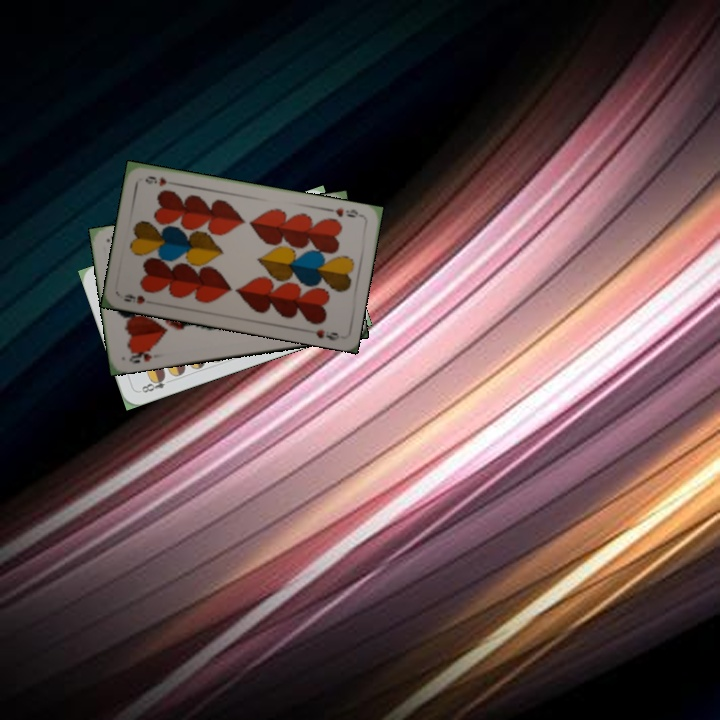E8: (135, 372, 175, 395)
H9: (331, 204, 365, 220), (120, 290, 147, 307)
HO: (125, 344, 157, 366)
